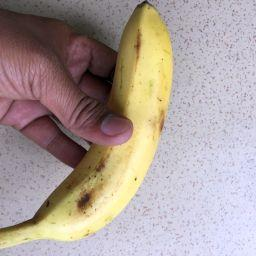Banana Ripe: (51, 0, 189, 253)
